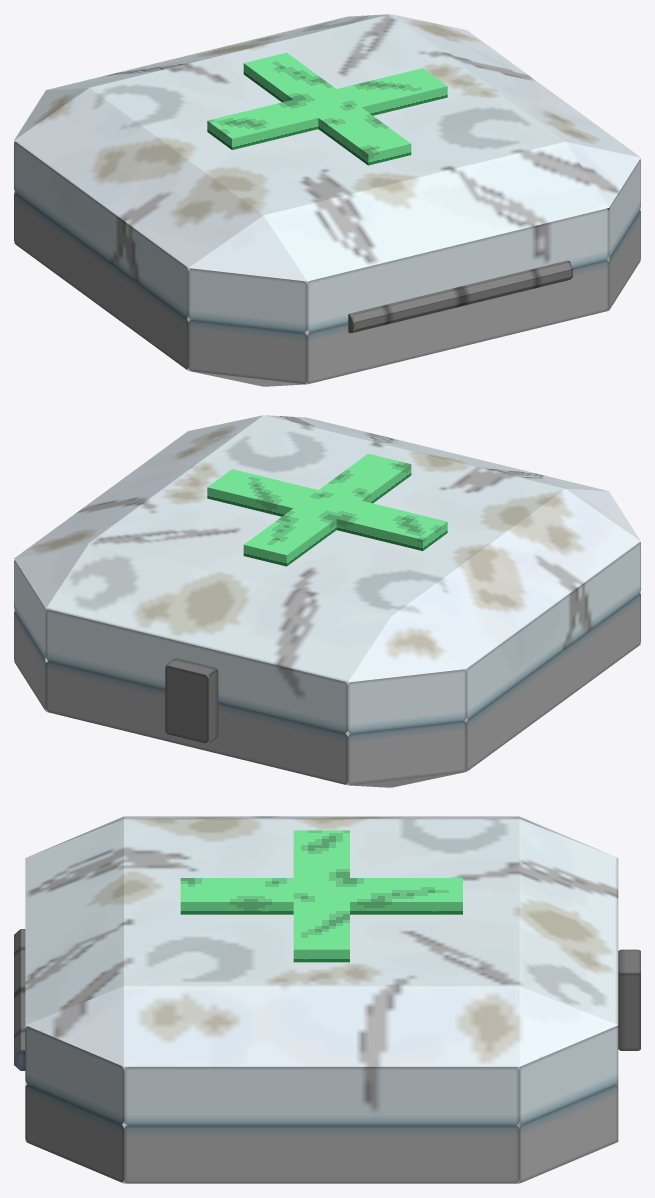
File: QB-10_Reapair_Kit.fbx
3 views of the same model, one above another, from view 1: azimuth 30°, elevation 25°; view 2: azimuth 150°, elevation 25°; view 3: azimuth 270°, elevation 25° (orthographic). The views are drawn at different scales.
Parts seen in each view (by area): view 1: beveled_cuboid_selection, beveled_cuboid, cuboid_1, cylinder; view 2: beveled_cuboid_selection, beveled_cuboid, cuboid_1, cuboid; view 3: beveled_cuboid_selection, beveled_cuboid, cuboid_1, cuboid, cylinder.
Part boxes in pixels (box(x1,y1,x2,y2)): beveled_cuboid_selection: box(14, 14, 640, 332); beveled_cuboid: box(14, 192, 640, 386); cuboid_1: box(207, 52, 447, 165); cylinder: box(348, 260, 572, 333); beveled_cuboid_selection: box(14, 415, 640, 733); beveled_cuboid: box(14, 593, 640, 787); cuboid_1: box(207, 453, 447, 566); cuboid: box(165, 658, 218, 743); beveled_cuboid_selection: box(25, 816, 618, 1125); beveled_cuboid: box(25, 1025, 618, 1183); cuboid_1: box(180, 830, 462, 962); cuboid: box(618, 949, 640, 1050); cylinder: box(14, 929, 25, 1070).
Bounding box in the file's own units: 131 × 50.63 × 139.
